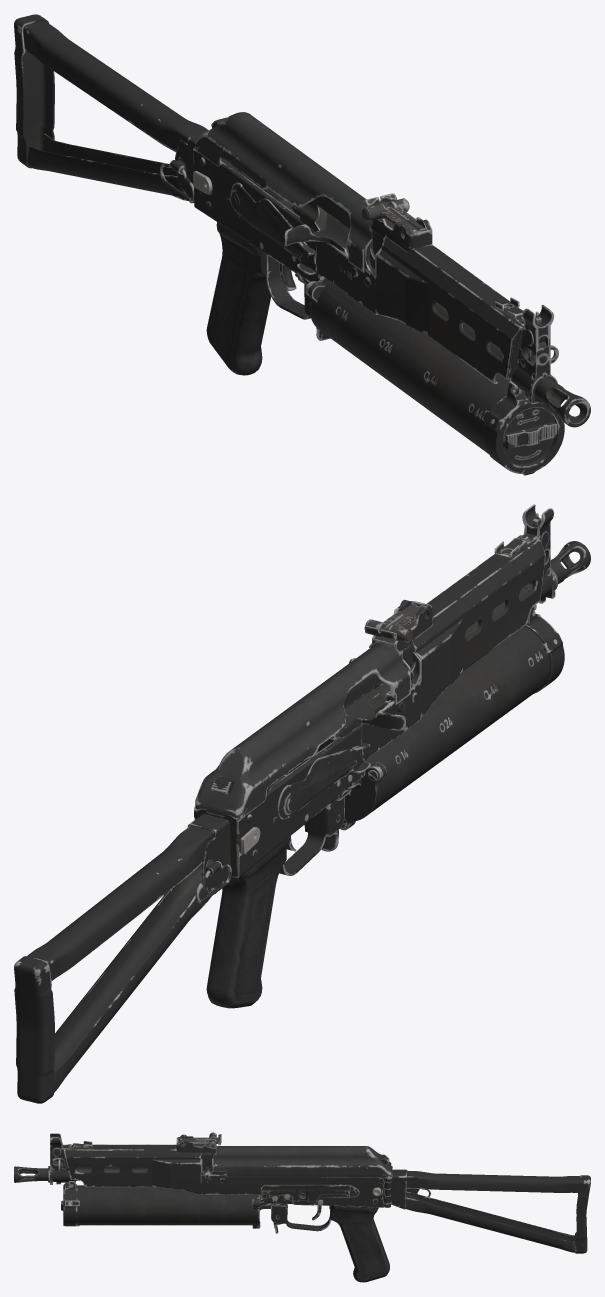
Rendered from bizon.glb.
The picture shows the model from 3 angles, top to bottom: view 1: azimuth 30°, elevation 25°; view 2: azimuth 150°, elevation 25°; view 3: azimuth 270°, elevation 25°; orthographic projection. The views are drawn at different scales.
Parts seen in each view (by area): view 1: Bizon_CS2; view 2: Bizon_CS2; view 3: Bizon_CS2.
Part boxes in pixels (box(x1,y1,x2,y2)): Bizon_CS2: box(14, 14, 590, 475); Bizon_CS2: box(14, 504, 590, 1103); Bizon_CS2: box(14, 1132, 590, 1282).
Size of the model in its own units: 0.0861 by 0.2232 by 0.8008.
1 material, 1 textured.
